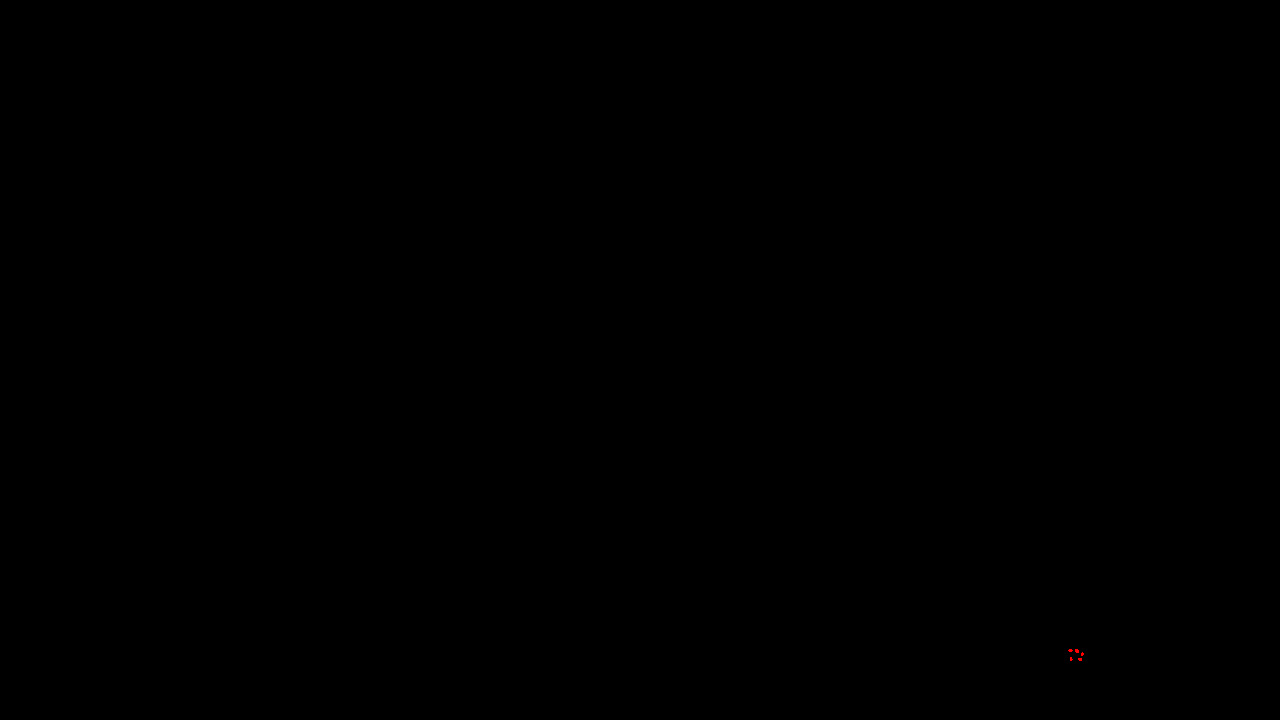Target: (1075, 649, 1079, 653), (1068, 649, 1073, 652), (1081, 652, 1084, 656), (1070, 657, 1073, 661), (1078, 658, 1082, 661)
